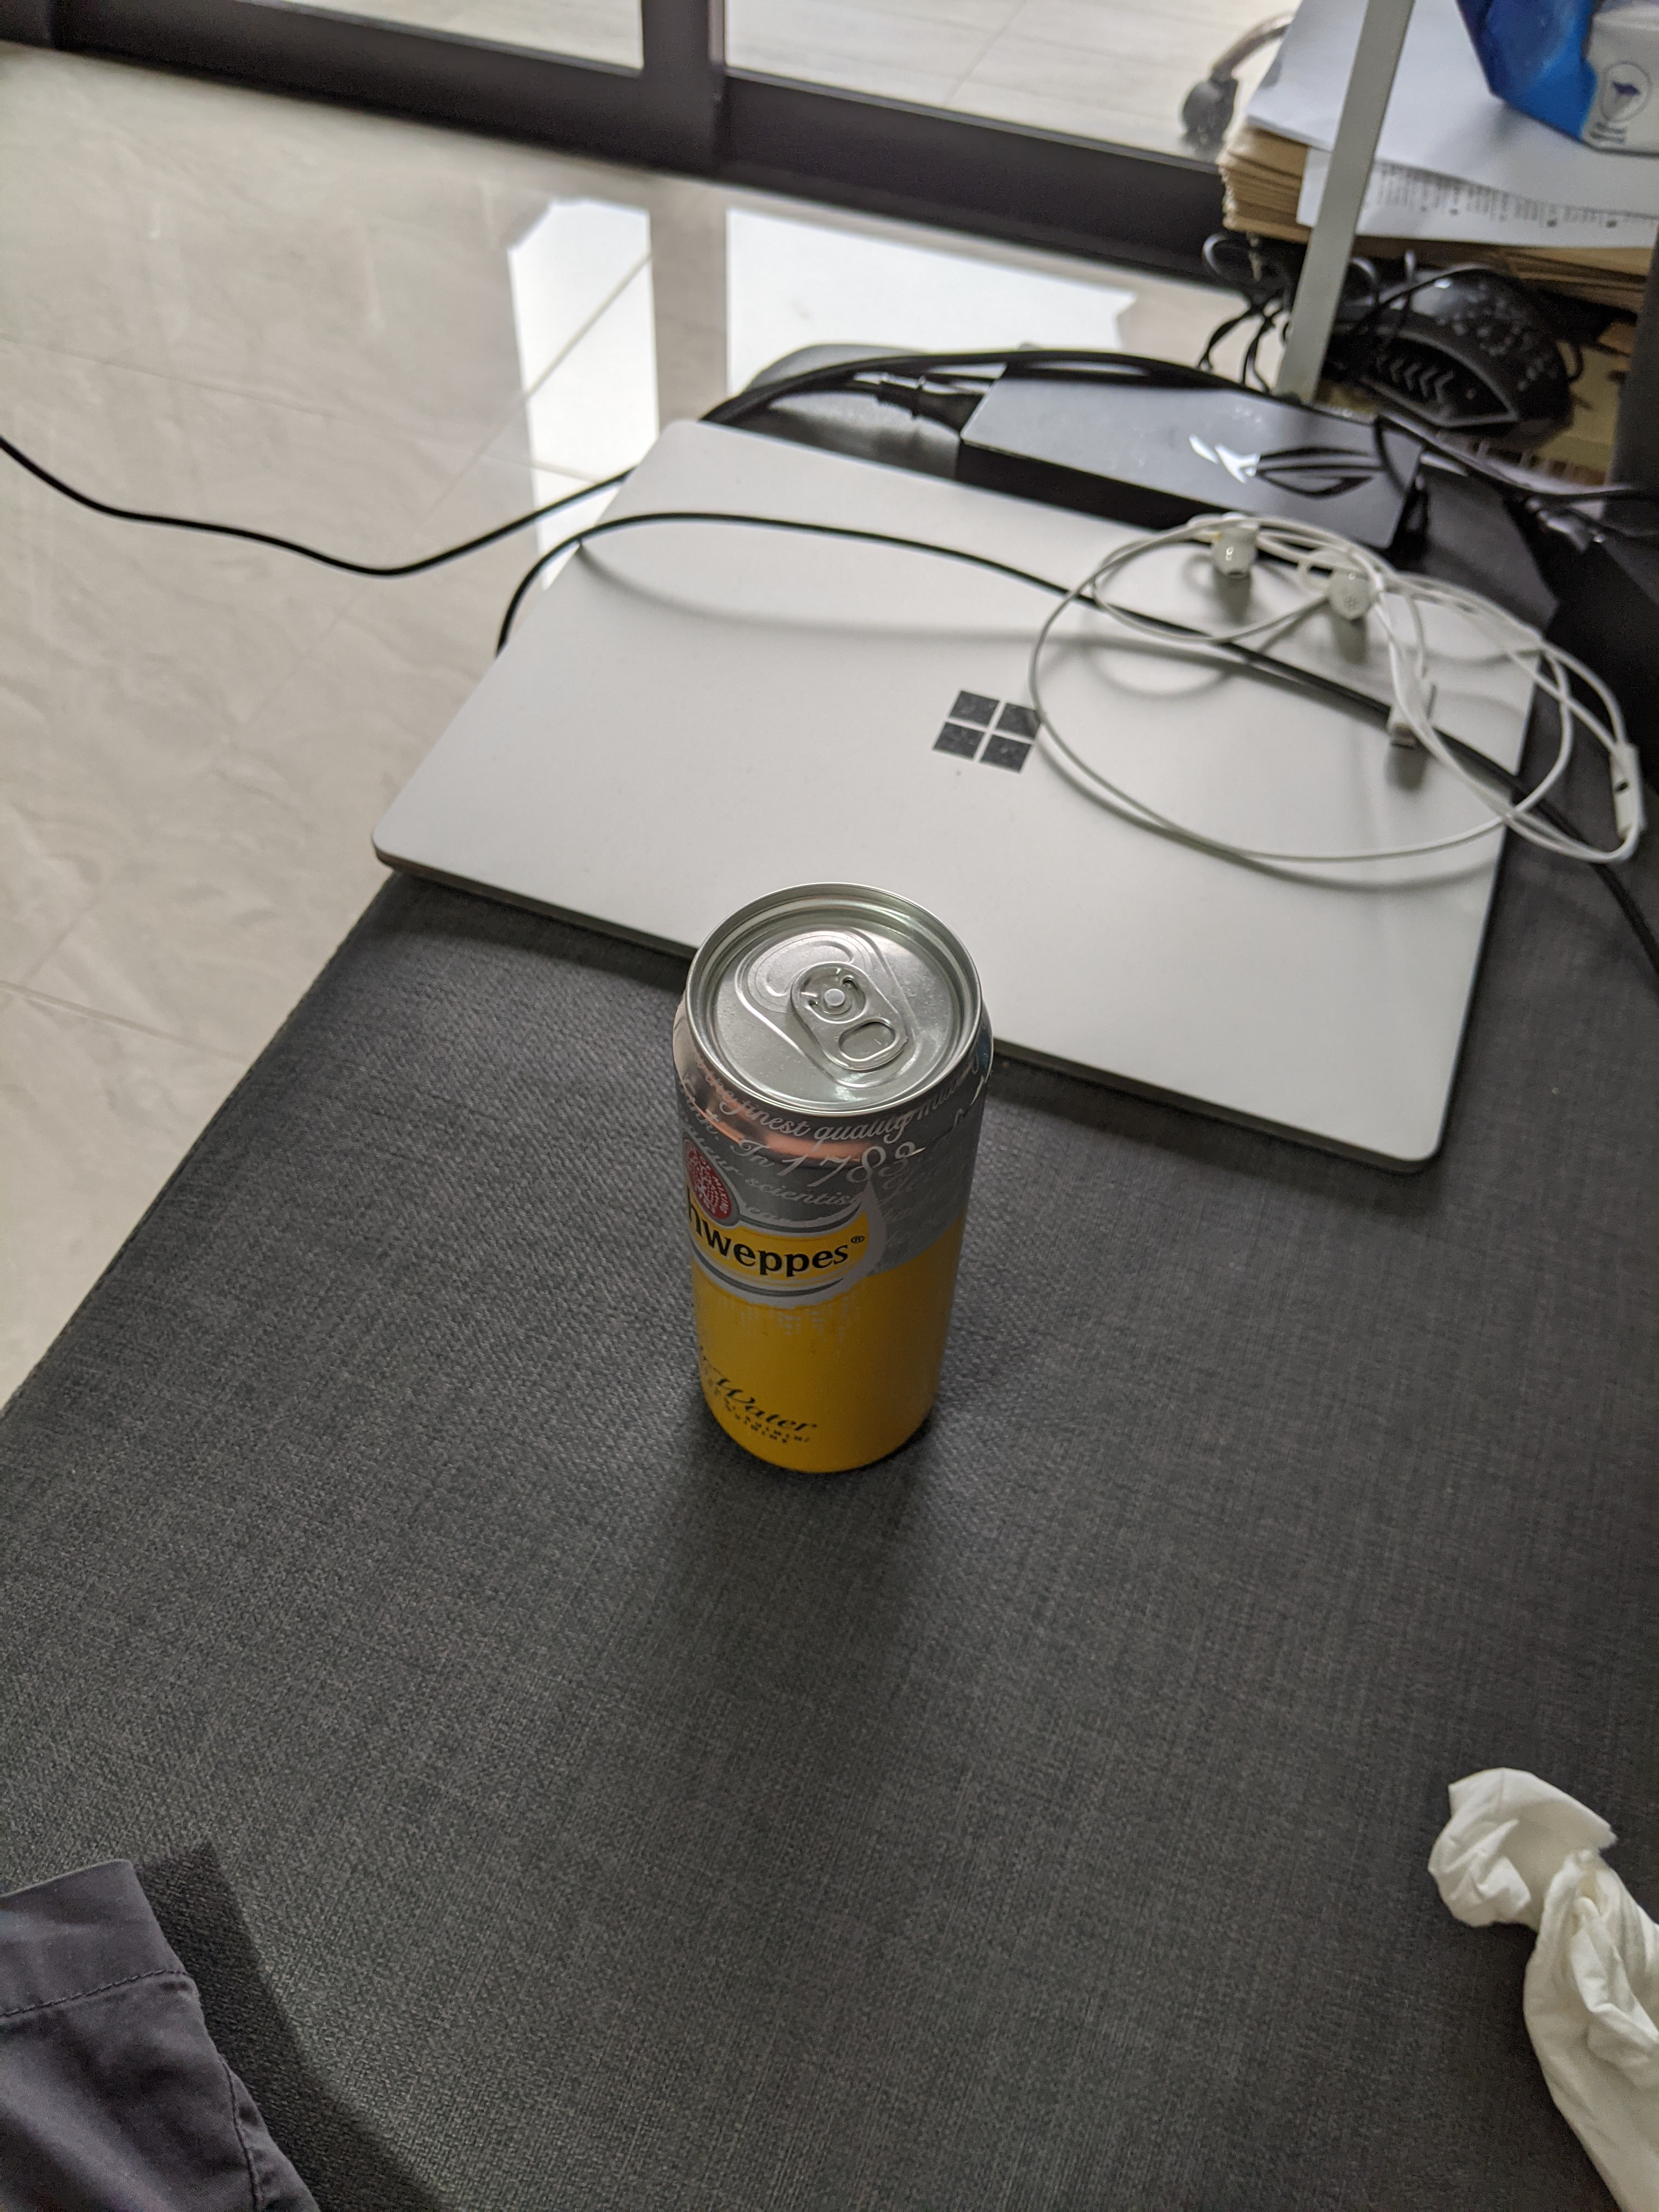schweppes drink can tonic water: (638, 848, 1018, 1501)
